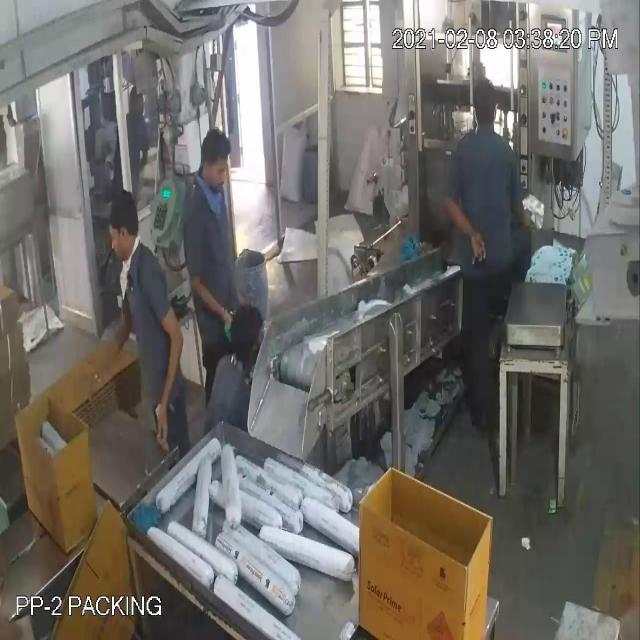No_Gloves: (53, 88, 466, 369)
